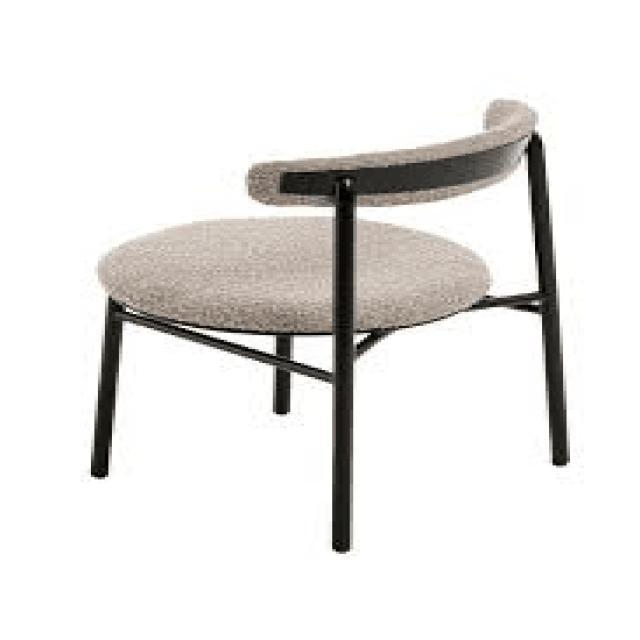chair: (82, 90, 580, 558), (95, 80, 592, 362)
